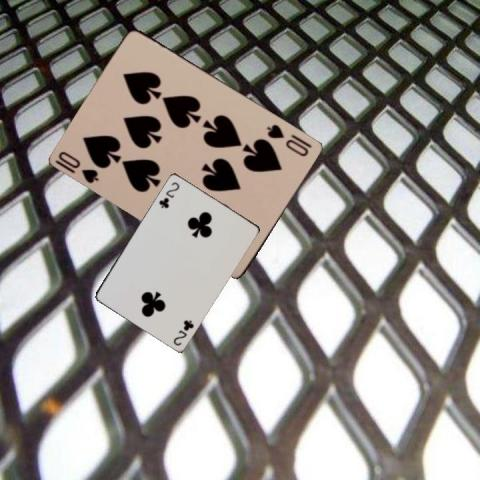10s: (264, 121, 311, 158), (55, 148, 101, 185)
2c: (155, 179, 181, 209), (170, 316, 195, 346)
